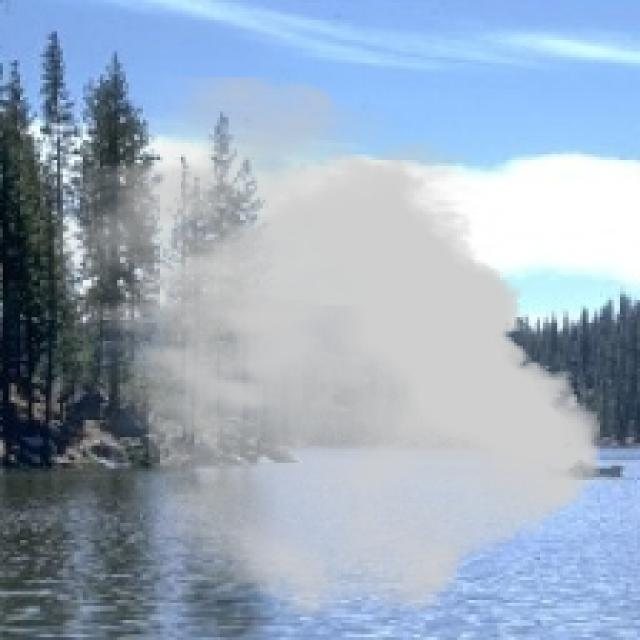smoke: (54, 77, 600, 620)
